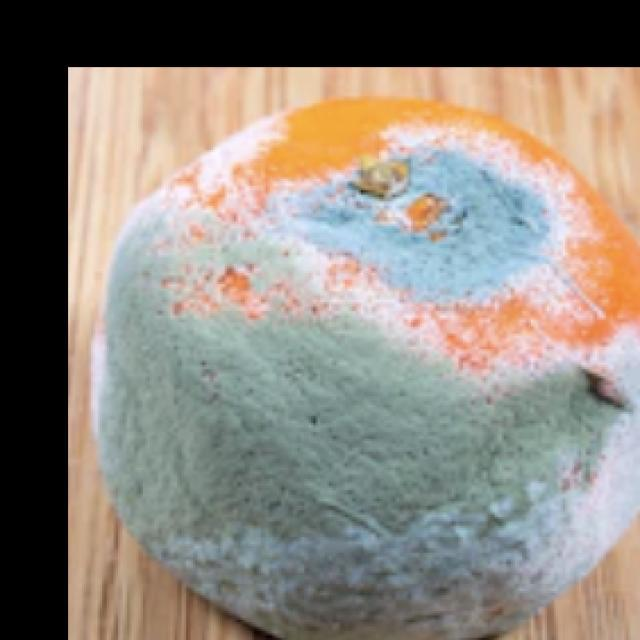sangat-busuk: (95, 99, 639, 639)
